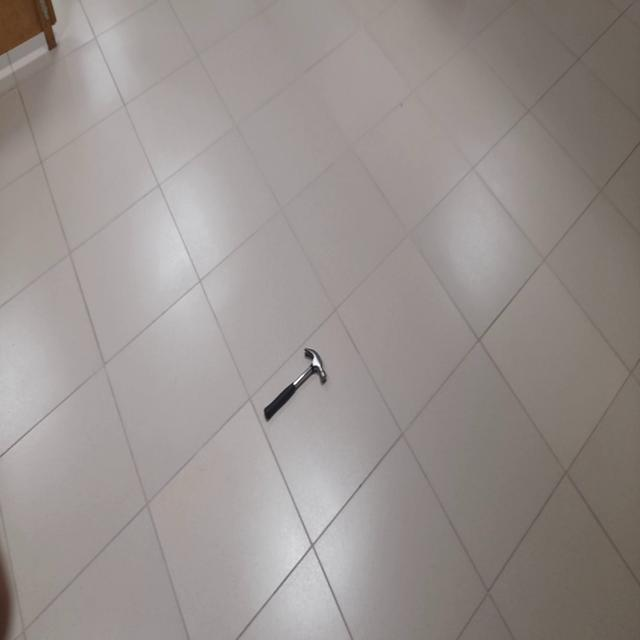hammer: (264, 347, 327, 421)
